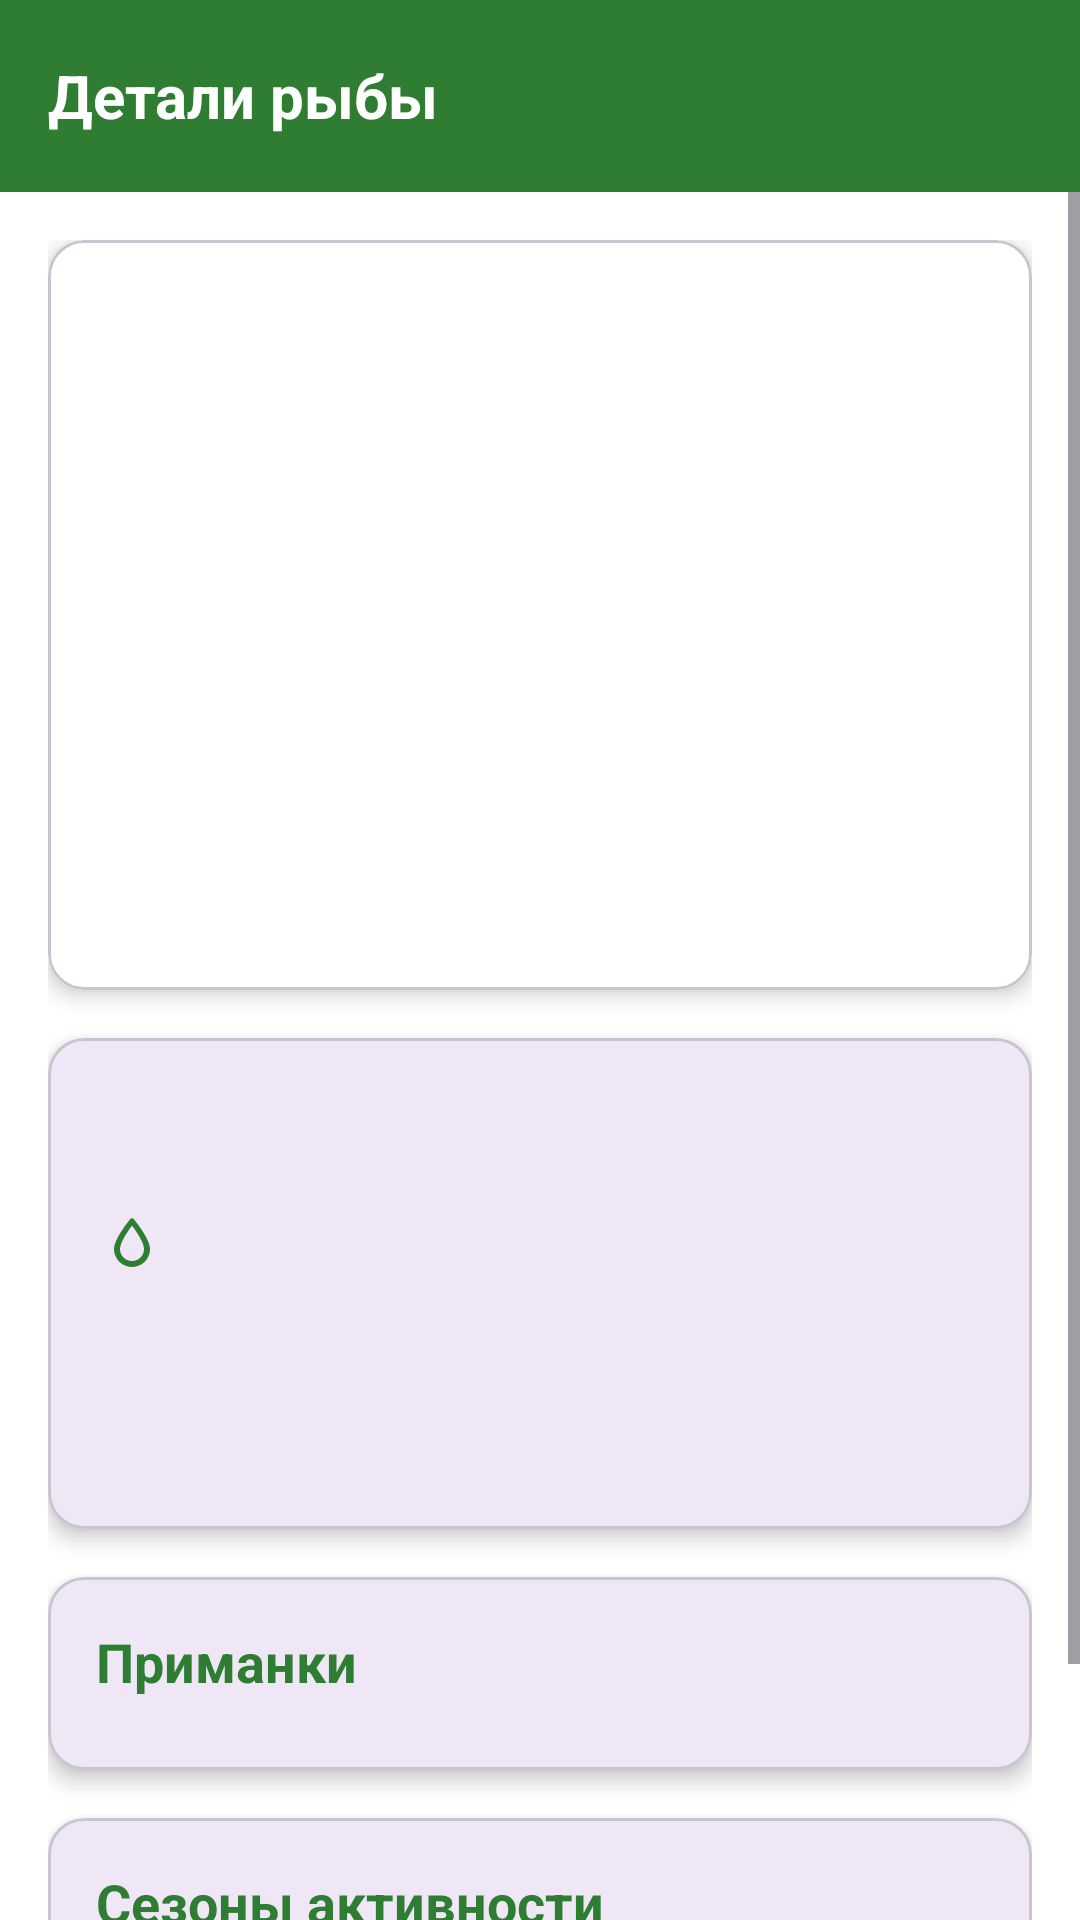

Named icons in this screenshot (1080*1920) and their centers, point (x, y):
water: point (132, 1242)
